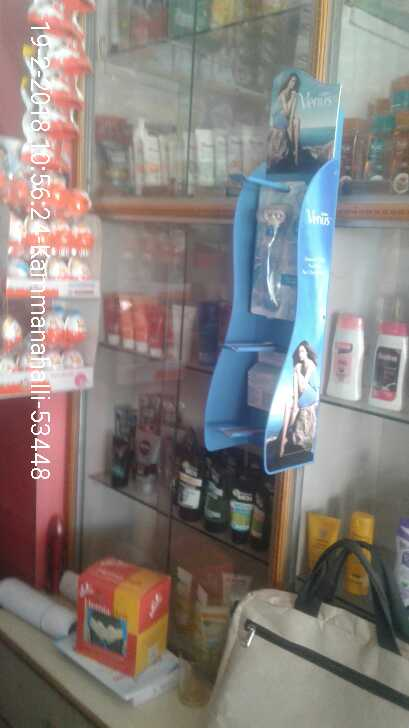venus: (251, 178, 290, 311)
